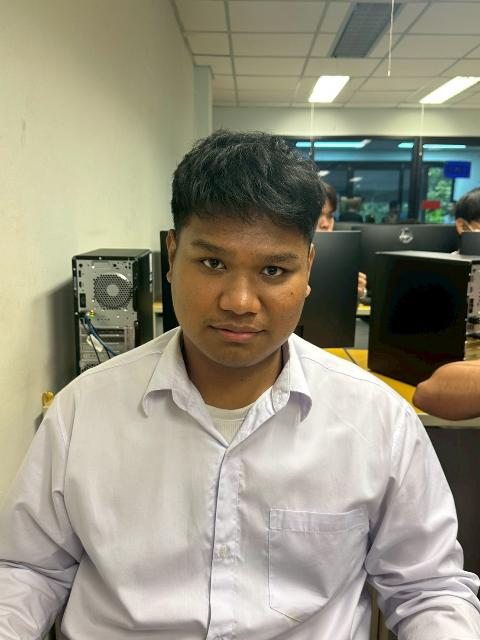fokus: (165, 127, 325, 368)
